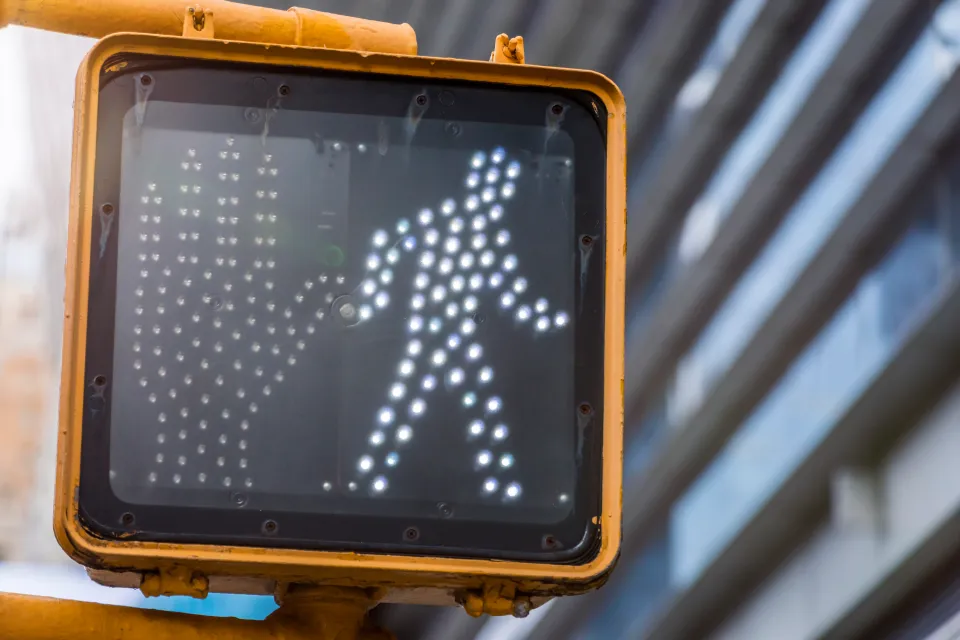ped_walk: (343, 136, 573, 507)
